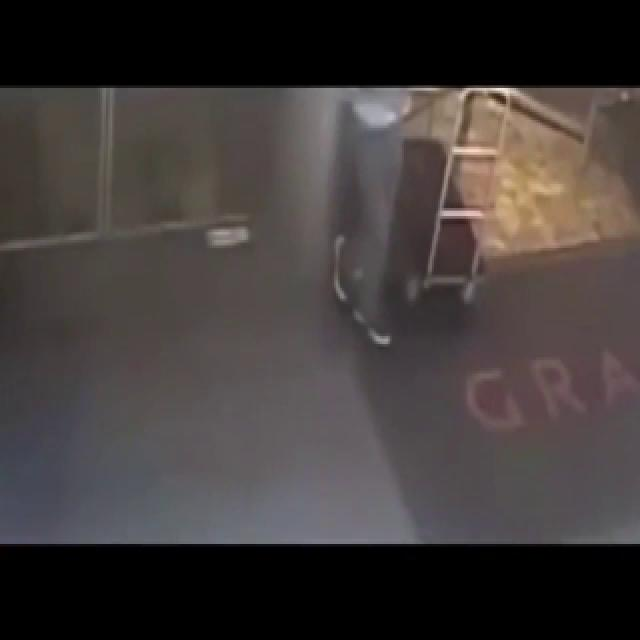arrest: (321, 84, 540, 445)
